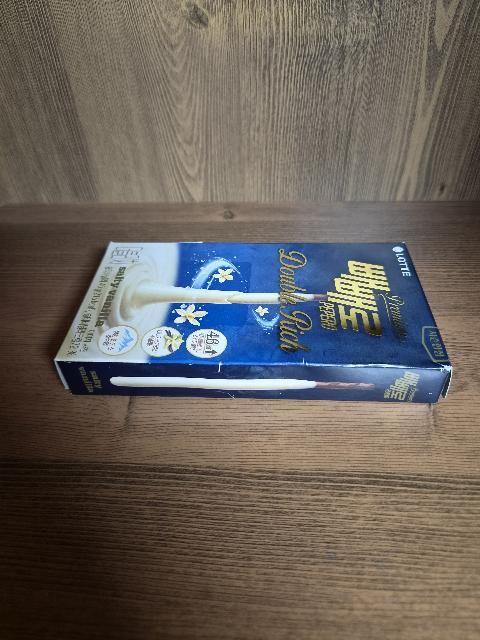pepero: (54, 241, 453, 403)
